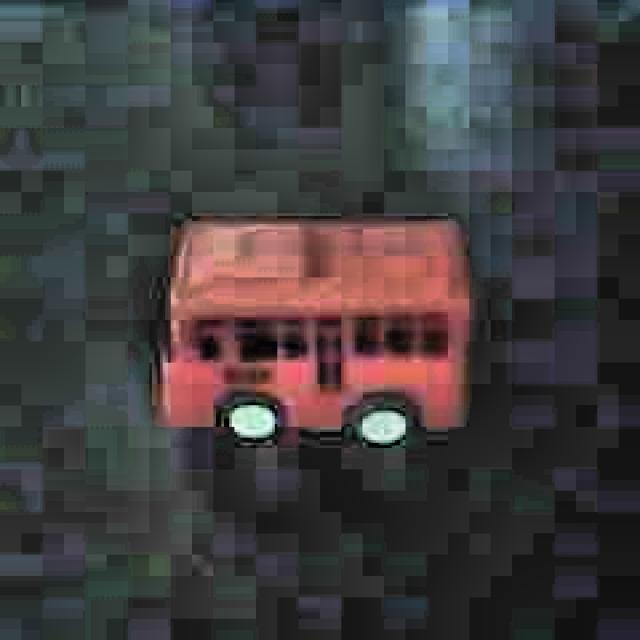bus: (152, 206, 478, 452)
